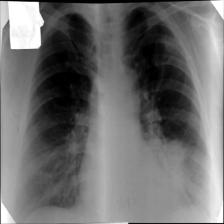tuberculosis: (15, 7, 214, 217)
